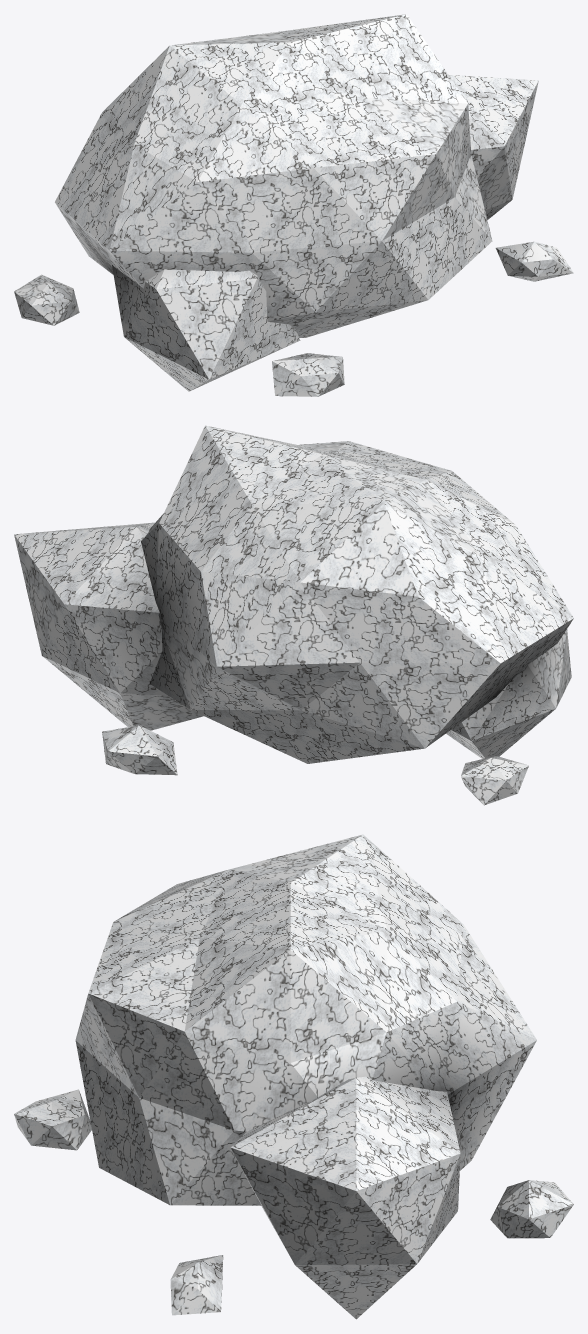
3 renders of one model, top to bottom at view 1: azimuth 30°, elevation 25°; view 2: azimuth 150°, elevation 25°; view 3: azimuth 270°, elevation 25°, orthographic. The views are drawn at different scales.
Visible parts, largest first — view 1: rock_M_rock, rock_M_rock_dark; view 2: rock_M_rock, rock_M_rock_dark; view 3: rock_M_rock, rock_M_rock_dark.
Boxes of the visible parts, x1,y1,x2,y2 form: rock_M_rock: (55, 14, 492, 337); rock_M_rock_dark: (14, 74, 573, 396); rock_M_rock: (141, 425, 573, 763); rock_M_rock_dark: (14, 522, 571, 805); rock_M_rock: (75, 834, 536, 1205); rock_M_rock_dark: (14, 1076, 573, 1319).
Size of the model in its own units: 3.04 by 1.69 by 2.45.
3 materials, 3 textured.
